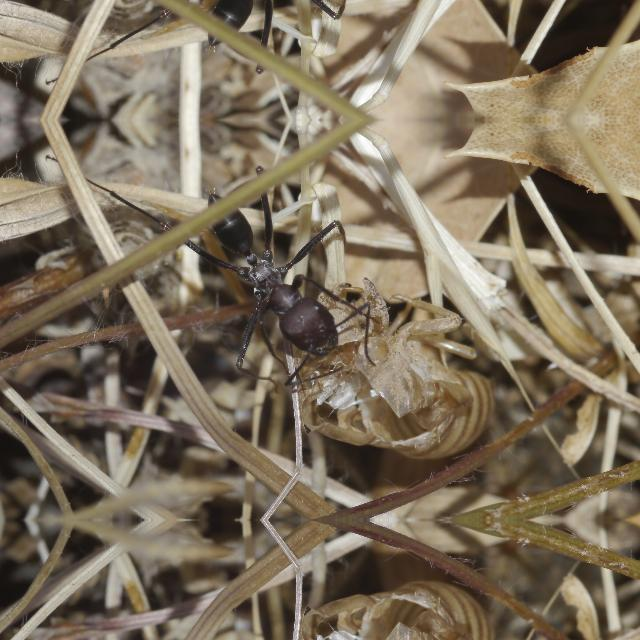Cataglyphis: (166, 190, 387, 376), (164, 0, 386, 50)
